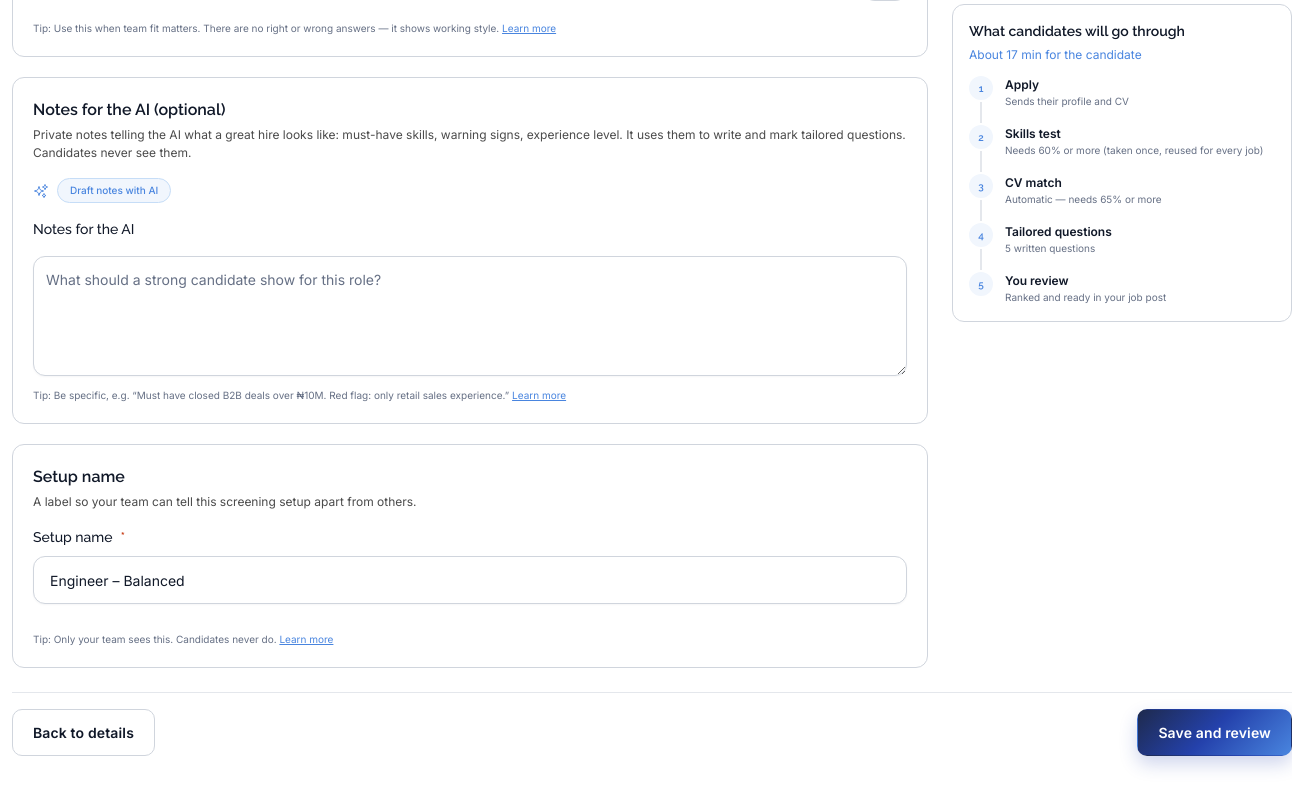
Test: AiConfig (screening step) › blocks saving without a setup name
This screenshot has width=1304, height=788.
(page scrolled)
Clear the field with placeholder "e.g. Backend engineer – Balanced" at {"x": 470, "y": 580}, box 33,556 -> 907,604
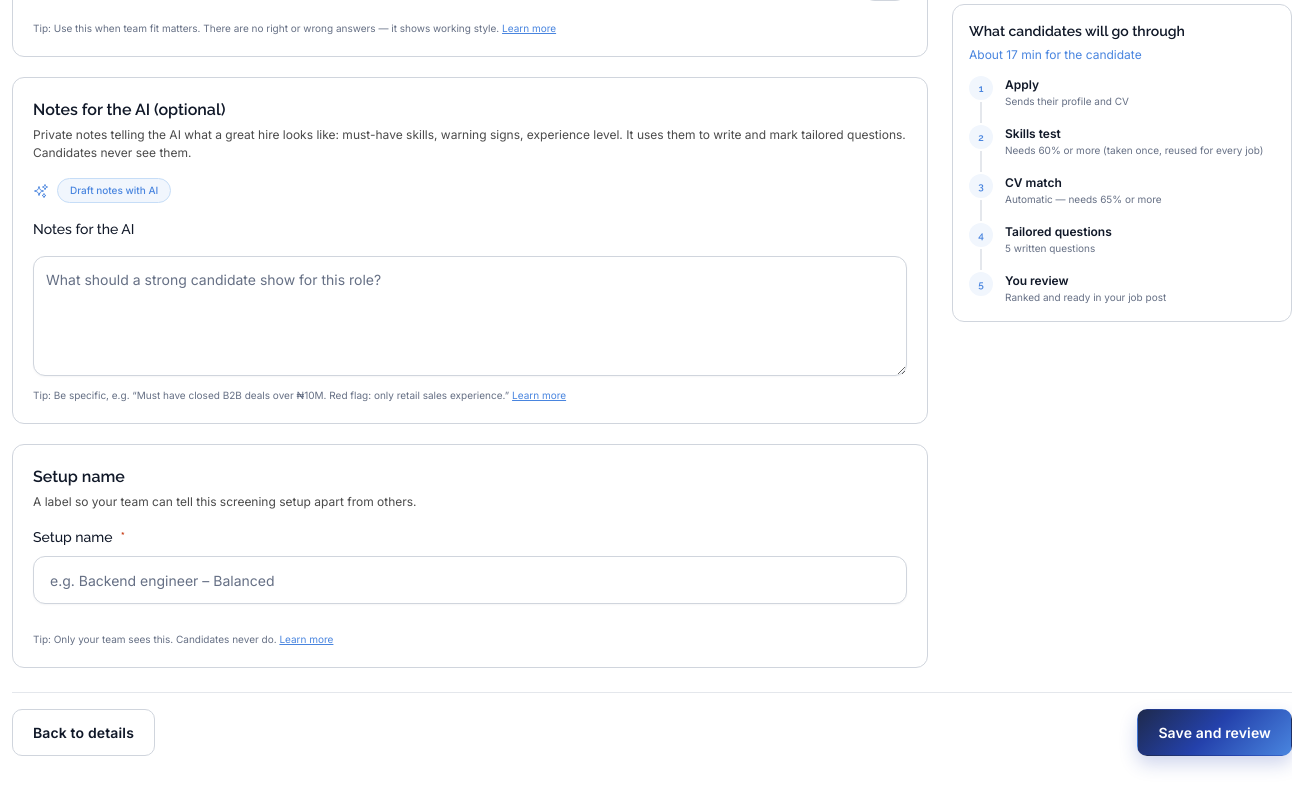
Click the button "Save and review" at {"x": 1215, "y": 732}, box 1137,709 -> 1292,756
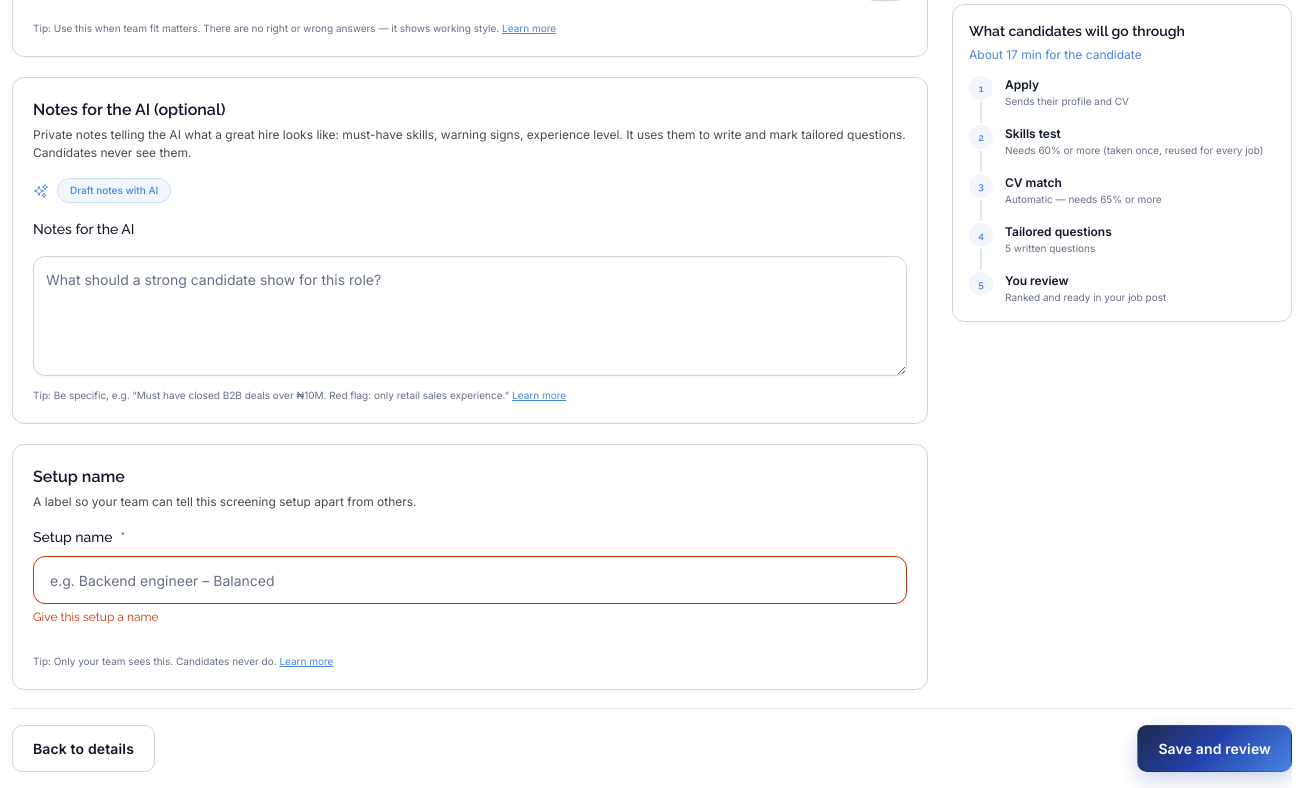
Check: the text "Give this setup a name" is shown, box 33,610 -> 159,624
